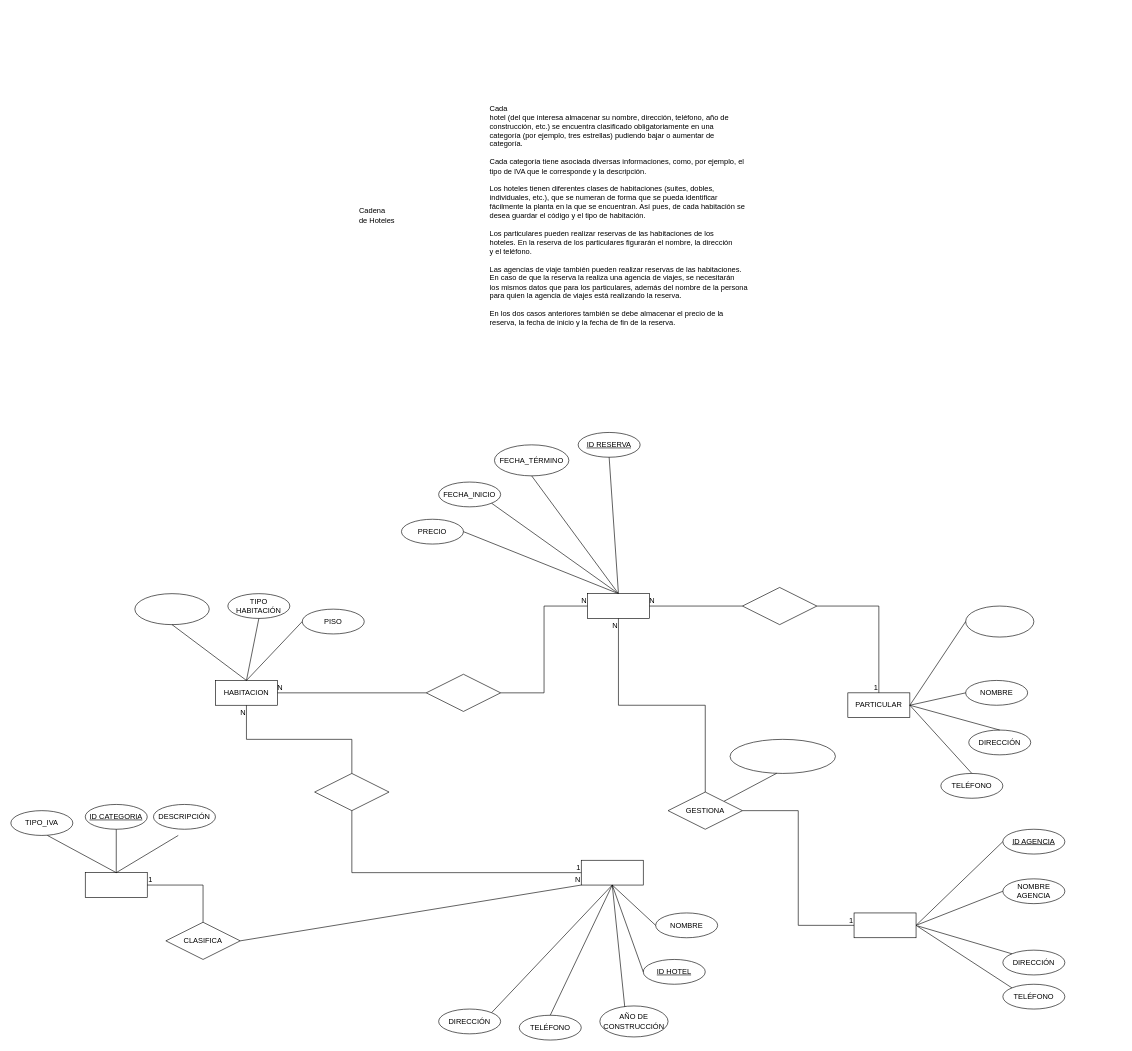
This 1132x1051 diagram has some shape labels left out. The box of each missing label's shape, as (x1, y1, x2, y2) in pixels:
AGENCIA: (853, 912, 916, 938)
CATEGORIA: (85, 872, 147, 897)
COD HABITACIÓN: (134, 593, 209, 625)
HOTEL: (581, 860, 643, 885)
INCLUYE: (426, 674, 501, 711)
NOMBRE_ HUESPED: (729, 739, 835, 773)
REALIZA: (742, 587, 817, 625)
RESERVA: (587, 593, 649, 618)
RUT PARTICULAR: (965, 605, 1034, 637)
TIENE: (314, 773, 389, 811)
